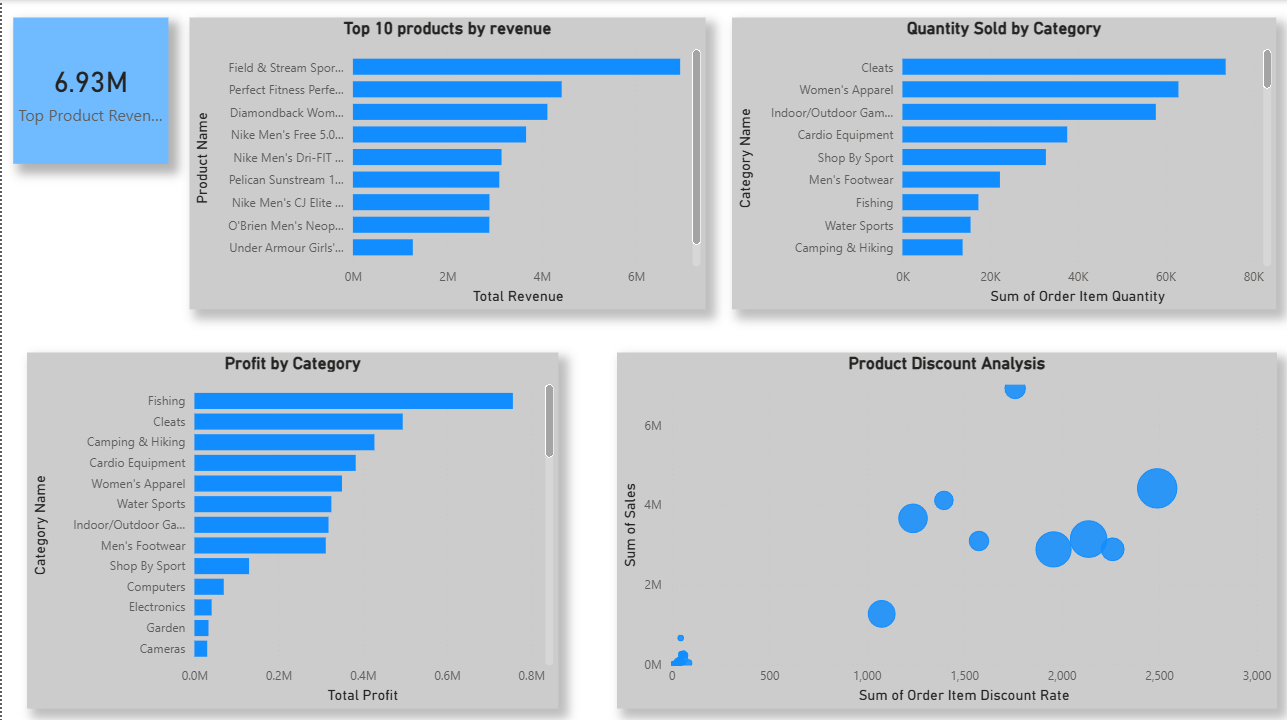

What the dashboard file says about the page in this screenshot:
{"tool":"powerbi","page":{"name":"Product Intelligence","canvas":[1280,720],"ordinal":1},"visuals":[{"type":"clusteredBarChart","title":"Top 10 products by revenue","fields":{"Category":["DataCoSupplyChainDataset.Product Name"],"Y":["DataCoSupplyChainDataset.Total Revenue"]},"box":[186.1,17.8,513.8,290.7],"z":0},{"type":"barChart","title":"Profit by Category","fields":{"Category":["DataCoSupplyChainDataset.Category Name"],"Y":["DataCoSupplyChainDataset.Total Profit"]},"box":[25.5,350.6,529.1,354.4],"z":1000},{"type":"barChart","title":"Quantity Sold by Category","fields":{"Category":["DataCoSupplyChainDataset.Category Name"],"Y":["Sum(DataCoSupplyChainDataset.Order Item Quantity)"]},"box":[726.7,17.8,541.8,290.7],"z":2000},{"type":"scatterChart","title":"Product Discount Analysis","fields":{"Category":["DataCoSupplyChainDataset.Product Name"],"Size":["Sum(DataCoSupplyChainDataset.Order Item Quantity)"],"X":["Sum(DataCoSupplyChainDataset.Order Item Discount Rate)"],"Y":["Sum(DataCoSupplyChainDataset.Sales)"]},"box":[612,350.6,656.6,354.4],"z":2001},{"type":"card","fields":{"Values":["DataCoSupplyChainDataset.Top Product Revenue"]},"box":[11.5,17.8,154.3,145.3],"z":2002}]}

Visuals, with their boxes in screenshot pixels (x1, y1, x2, y2), scaled from the page's 1280x720 canvas onto the 1287x720 screenshot:
"Top 10 products by revenue" clusteredBarChart: pyautogui.locateOnScreen(187, 18, 704, 308)
"Profit by Category" barChart: pyautogui.locateOnScreen(26, 351, 558, 705)
"Quantity Sold by Category" barChart: pyautogui.locateOnScreen(731, 18, 1275, 308)
"Product Discount Analysis" scatterChart: pyautogui.locateOnScreen(615, 351, 1276, 705)
card - DataCoSupplyChainDataset.Top Product Revenue: pyautogui.locateOnScreen(12, 18, 167, 163)
